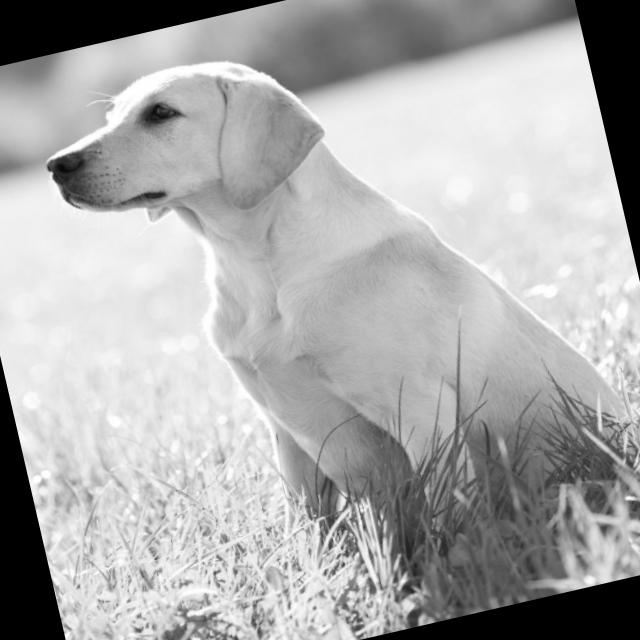dogs: (30, 0, 633, 588)
